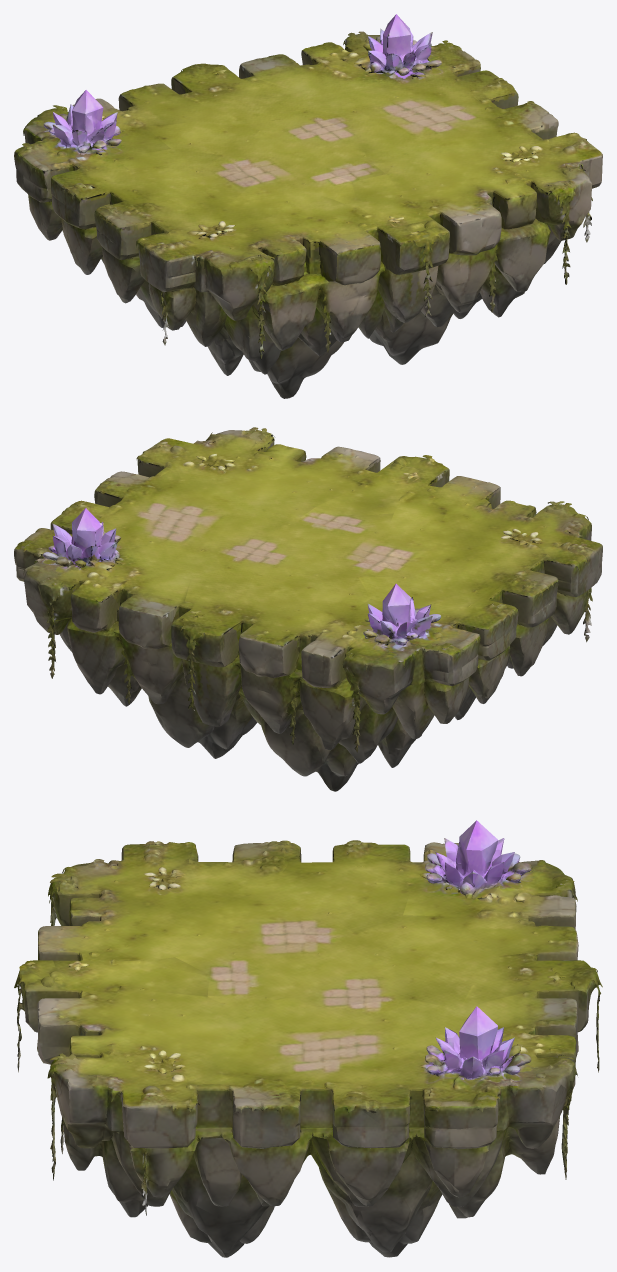
3 renders of one model, top to bottom at view 1: azimuth 30°, elevation 25°; view 2: azimuth 150°, elevation 25°; view 3: azimuth 270°, elevation 25°, orthographic. The views are drawn at different scales.
Parts seen in each view (by area): view 1: model; view 2: model; view 3: model.
Boxes of the visible parts, left/top/right/bottom form: model: left=14, top=14, right=602, bottom=398; model: left=14, top=427, right=602, bottom=791; model: left=14, top=820, right=602, bottom=1257.
Bounding box in the file's own units: 1.9 × 1.05 × 1.78.
Materials: 1 (1 with a texture image).
